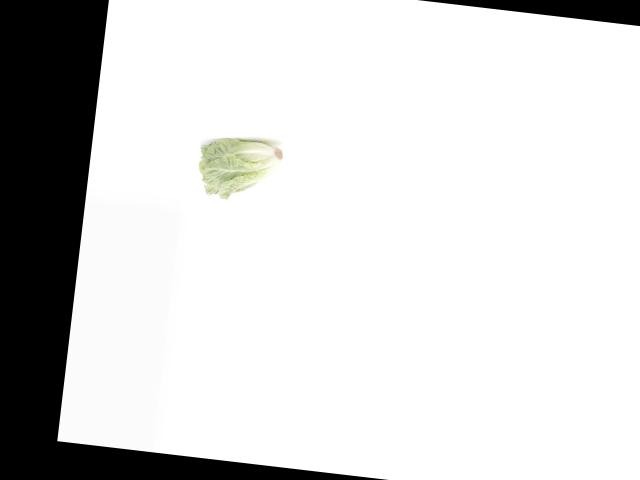lettuce: (195, 132, 288, 206)
